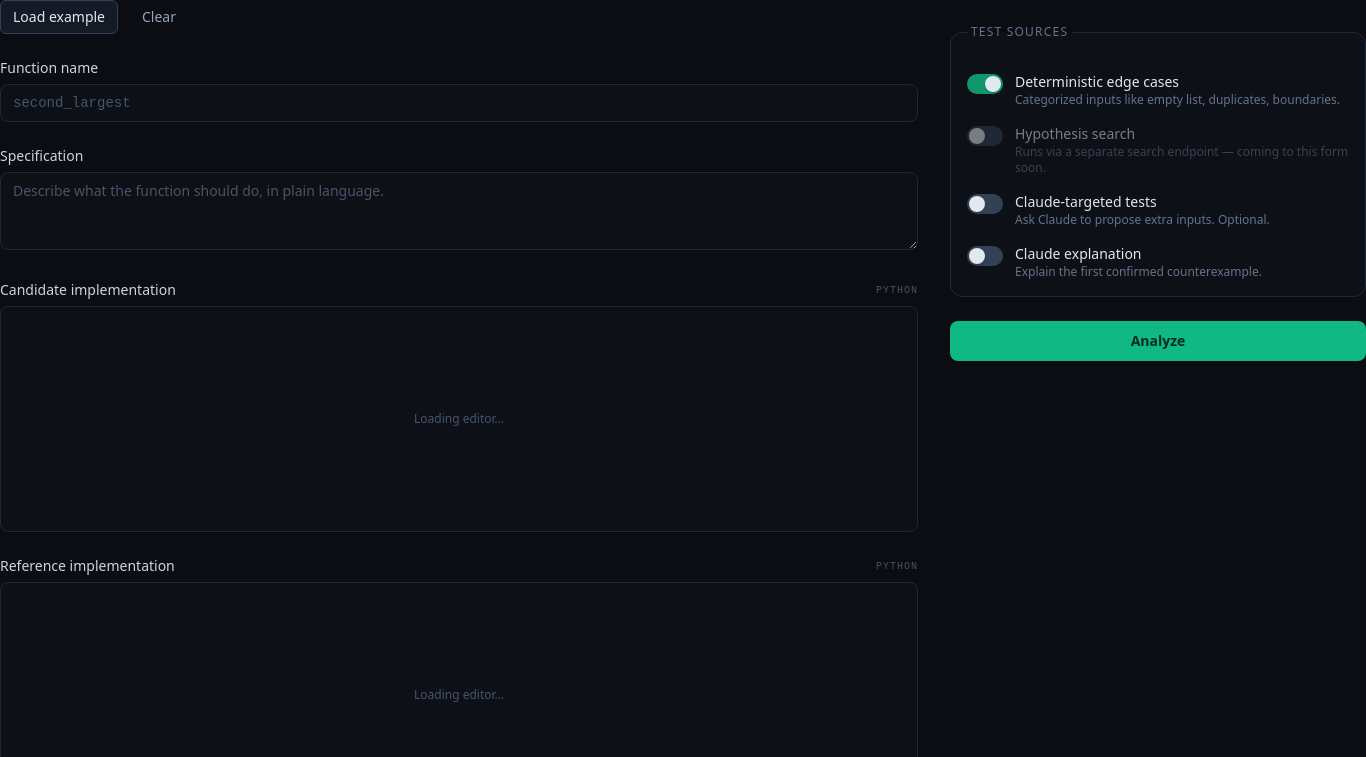
Test: SubmissionForm (async flow) › shows a live progress bar with the current stage while polling
This screenshot has width=1366, height=757.
Click the button "Load example" at (59, 17), box [0,0,118,34]
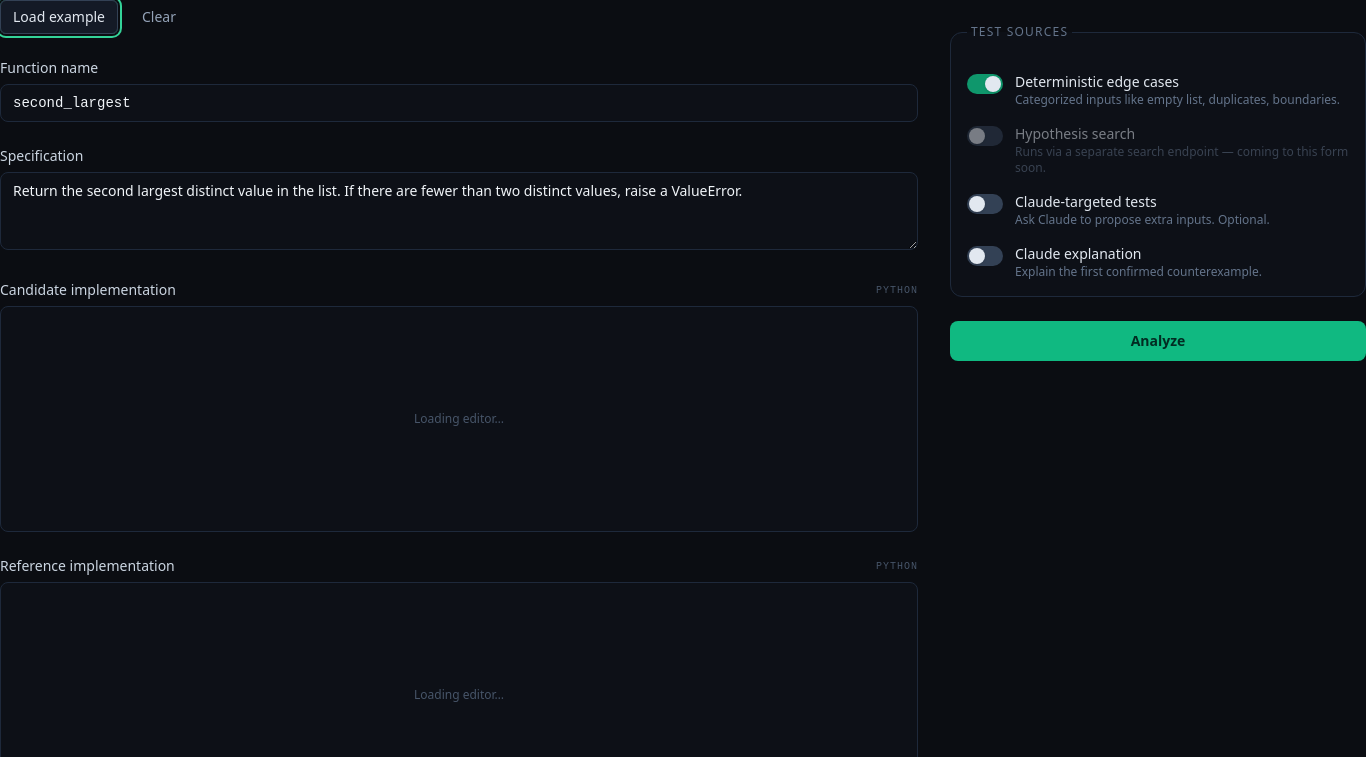
Click the button "Analyze" at (1158, 341), box [950,321,1365,361]
(page scrolled)
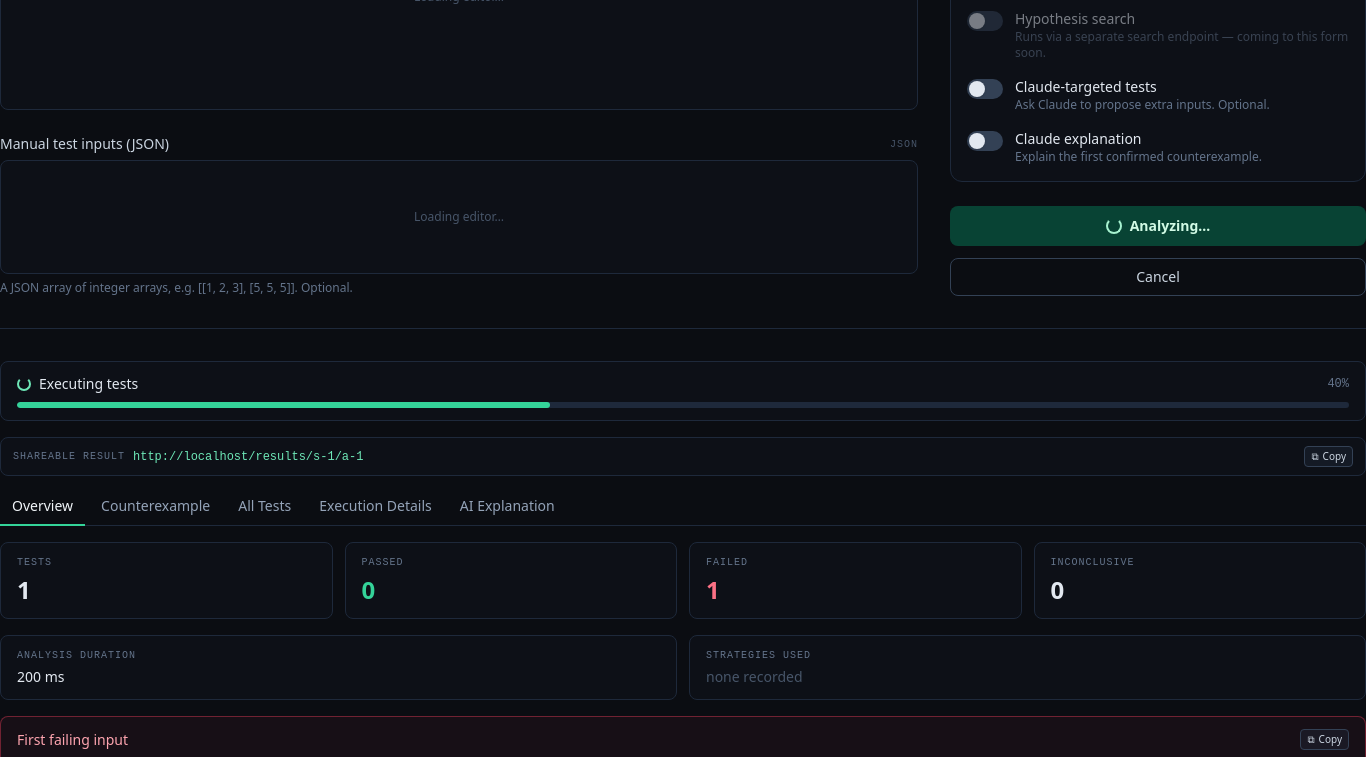
expect the progress indicator is shown: met, box [17,402,1349,408]
expect the text "Executing tests" is shown: met, box [39,374,138,394]
